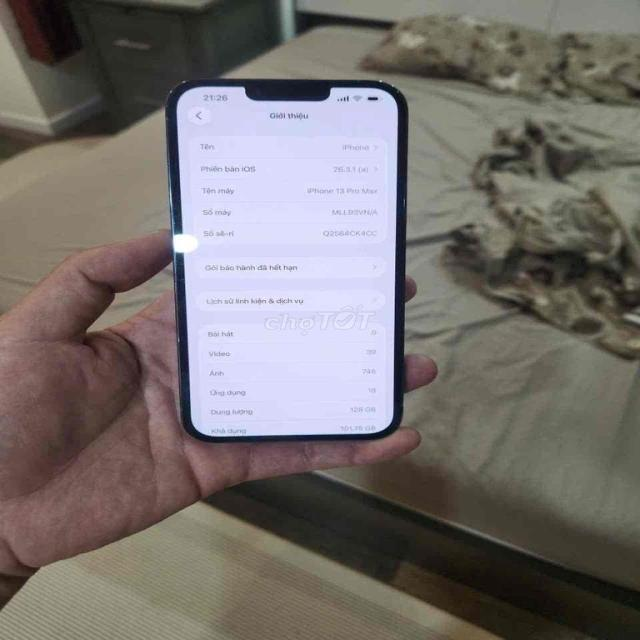gen_12_13: (153, 61, 415, 442)
